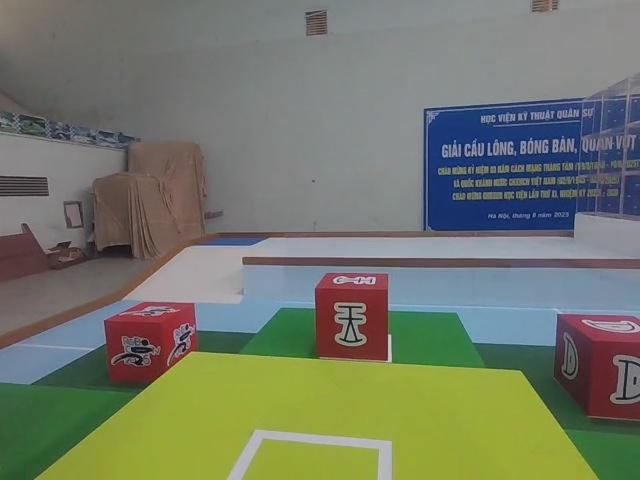R1: (103, 301, 199, 383)
R2 Real: (553, 314, 640, 420), (315, 272, 389, 361)
